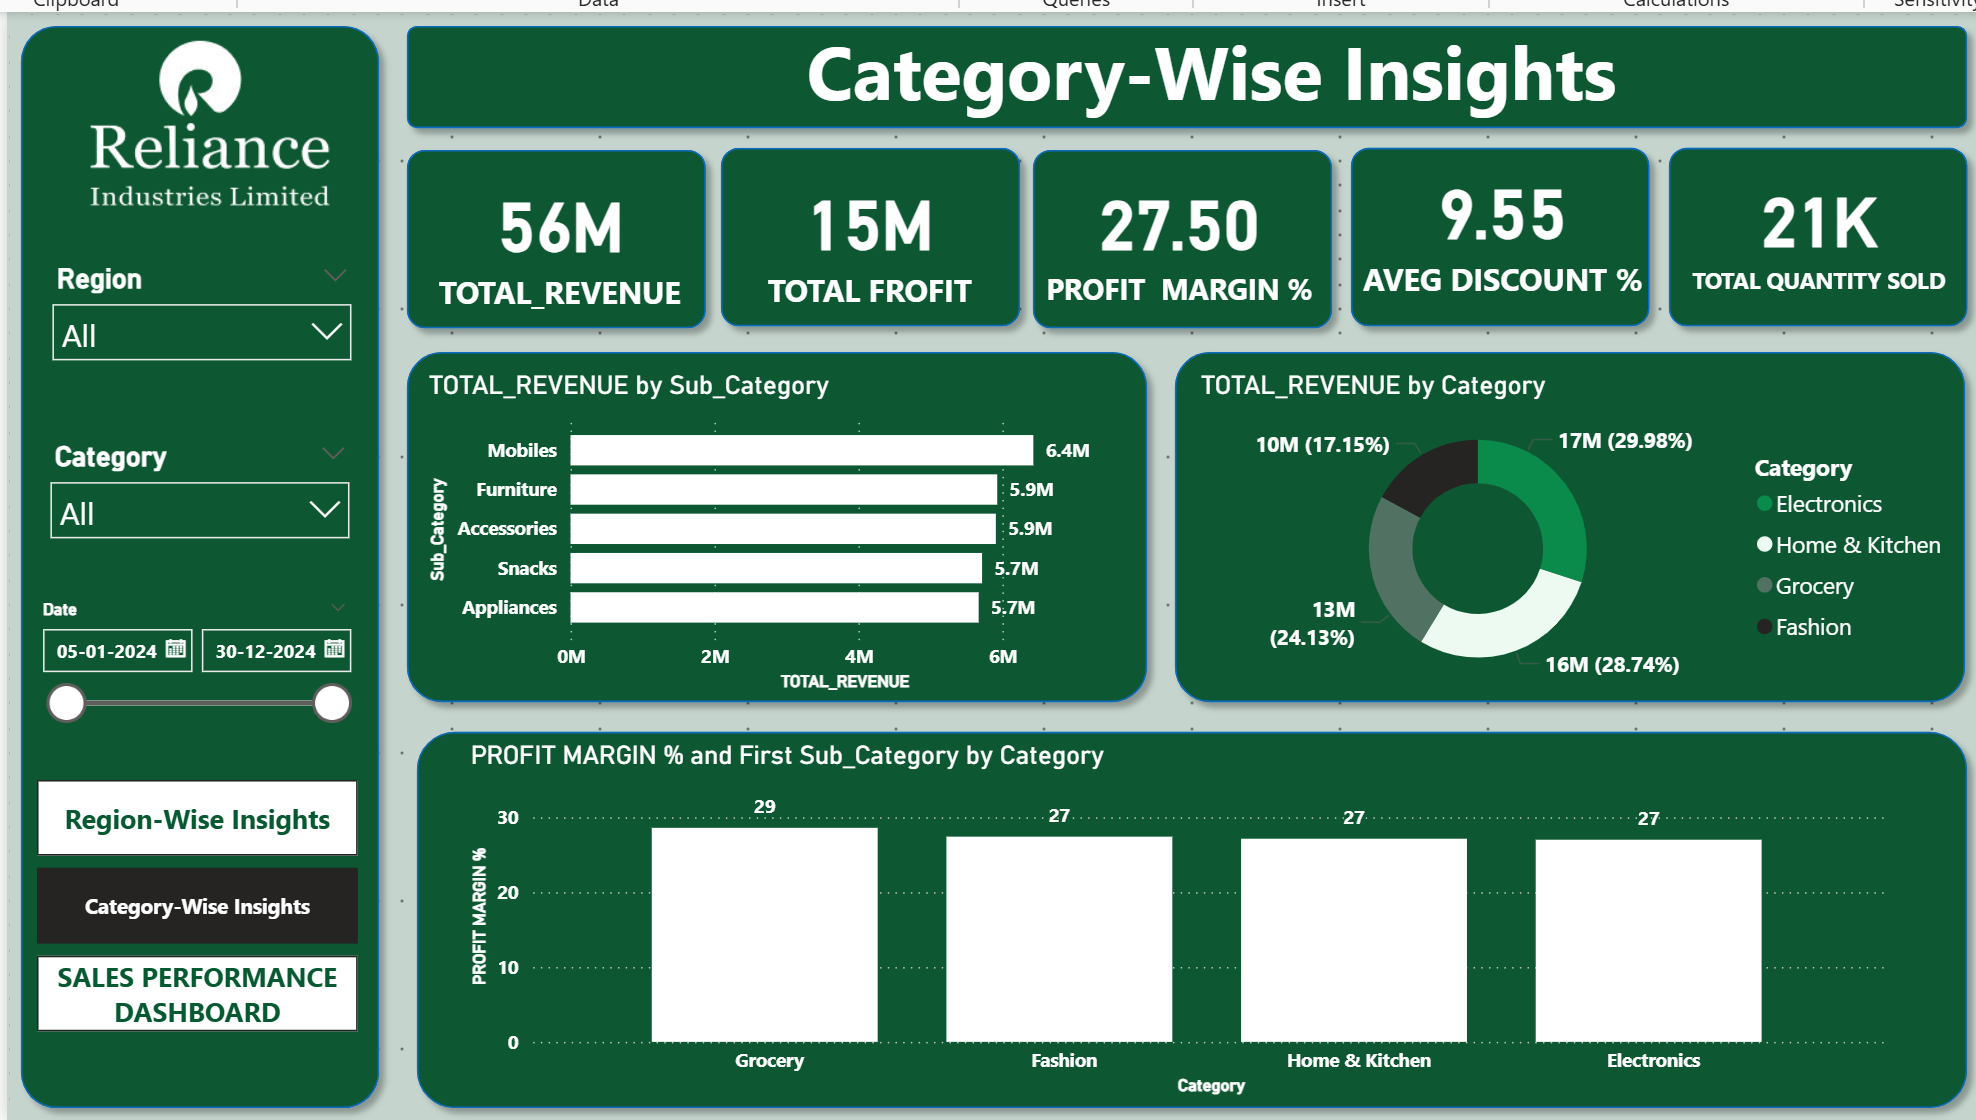

Layout of this report page (visuals, bound fields, positions):
{"tool":"powerbi","page":{"name":"Category-Wise Insights","canvas":[1280,720],"ordinal":1},"visuals":[{"type":"shape","box":[1068.3,78.8,211.7,133.8],"z":0},{"type":"shape","box":[862.1,78.8,211.7,133.8],"z":1000},{"type":"shape","box":[250.6,80,211.9,133.8],"z":2000},{"type":"shape","box":[454.2,79.2,212.1,133.8],"z":3000},{"type":"shape","box":[655.8,80,212.1,133.8],"z":4000},{"type":"shape","box":[250.4,0,1030.1,84.3],"z":5000},{"type":"textbox","box":[513.7,0,587.7,76.5],"z":6000},{"type":"shape","box":[0,0,250.4,720],"z":7000},{"type":"card","fields":{"Values":["Sales_Data.TOTAL FROFIT"]},"box":[435,93.3,250,106.7],"z":8000},{"type":"card","fields":{"Values":["Sales_Data.PROFIT  MARGIN %"]},"box":[663.3,91.7,195,108.3],"z":9000},{"type":"card","fields":{"Values":["Sales_Data.AVEG DISCOUNT %"]},"box":[875,85,191.7,108.3],"z":10000},{"type":"card","fields":{"Values":["Sales_Data.TOTAL QUANTITY SOLD"]},"box":[1081.7,81.7,186.7,120],"z":11000},{"type":"shape","box":[748.5,211.5,530.6,245.2],"z":12000},{"type":"shape","box":[256.9,457.9,1023.6,262.1],"z":13000},{"type":"image","box":[6.5,2.6,250.4,138.8],"z":14000},{"type":"shape","box":[250.4,211.5,498.2,245.2],"z":15000},{"type":"card","fields":{"Values":["Sales_Data.TOTAL_REVENUE"]},"box":[268.3,95,180,106.7],"z":16000},{"type":"pageNavigator","box":[19.5,498.2,208.9,221.8],"z":17000},{"type":"slicer","fields":{"Values":["Sales_Data.Region"]},"box":[19.5,157,214.1,88.2],"z":18000},{"type":"slicer","fields":{"Values":["Sales_Data.Category"]},"box":[18.2,272.4,214.1,88.2],"z":19000},{"type":"barChart","fields":{"Y":["Sales_Data.TOTAL_REVENUE"],"Category":["Sales_Data.Sub_Category"]},"box":[268.5,232.2,468.3,212.8],"z":20000},{"type":"columnChart","fields":{"Category":["Sales_Data.Category"],"Y":["Sales_Data.PROFIT  MARGIN %"]},"box":[295.8,472.2,930.2,234.8],"z":21000},{"type":"donutChart","fields":{"Y":["Sales_Data.TOTAL_REVENUE"],"Category":["Sales_Data.Category"]},"box":[769.3,232.2,499.5,212.8],"z":22000},{"type":"slicer","fields":{"Values":["Sales_Data.Date"]},"box":[10.4,376.2,221.8,96],"z":23000}]}

Visuals, with their boxes on the page's 1280x720 design canvas (x1, y1, x2, y2). These are canvas units, not pixel positions in the 1976x1120 screenshot, which may show the page scaled, cropped or inside an application window:
shape: locate(1068, 79, 1280, 213)
shape: locate(862, 79, 1074, 213)
shape: locate(251, 80, 462, 214)
shape: locate(454, 79, 666, 213)
shape: locate(656, 80, 868, 214)
shape: locate(250, 0, 1280, 84)
textbox: locate(514, 0, 1101, 76)
shape: locate(0, 0, 250, 720)
card - Sales_Data.TOTAL FROFIT: locate(435, 93, 685, 200)
card - Sales_Data.PROFIT  MARGIN %: locate(663, 92, 858, 200)
card - Sales_Data.AVEG DISCOUNT %: locate(875, 85, 1067, 193)
card - Sales_Data.TOTAL QUANTITY SOLD: locate(1082, 82, 1268, 202)
shape: locate(748, 212, 1279, 457)
shape: locate(257, 458, 1280, 720)
image: locate(6, 3, 257, 141)
shape: locate(250, 212, 749, 457)
card - Sales_Data.TOTAL_REVENUE: locate(268, 95, 448, 202)
pageNavigator: locate(20, 498, 228, 720)
slicer - Sales_Data.Region: locate(20, 157, 234, 245)
slicer - Sales_Data.Category: locate(18, 272, 232, 361)
barChart - Sales_Data.TOTAL_REVENUE x Sales_Data.Sub_Category: locate(268, 232, 737, 445)
columnChart - Sales_Data.Category x Sales_Data.PROFIT  MARGIN %: locate(296, 472, 1226, 707)
donutChart - Sales_Data.TOTAL_REVENUE x Sales_Data.Category: locate(769, 232, 1269, 445)
slicer - Sales_Data.Date: locate(10, 376, 232, 472)
